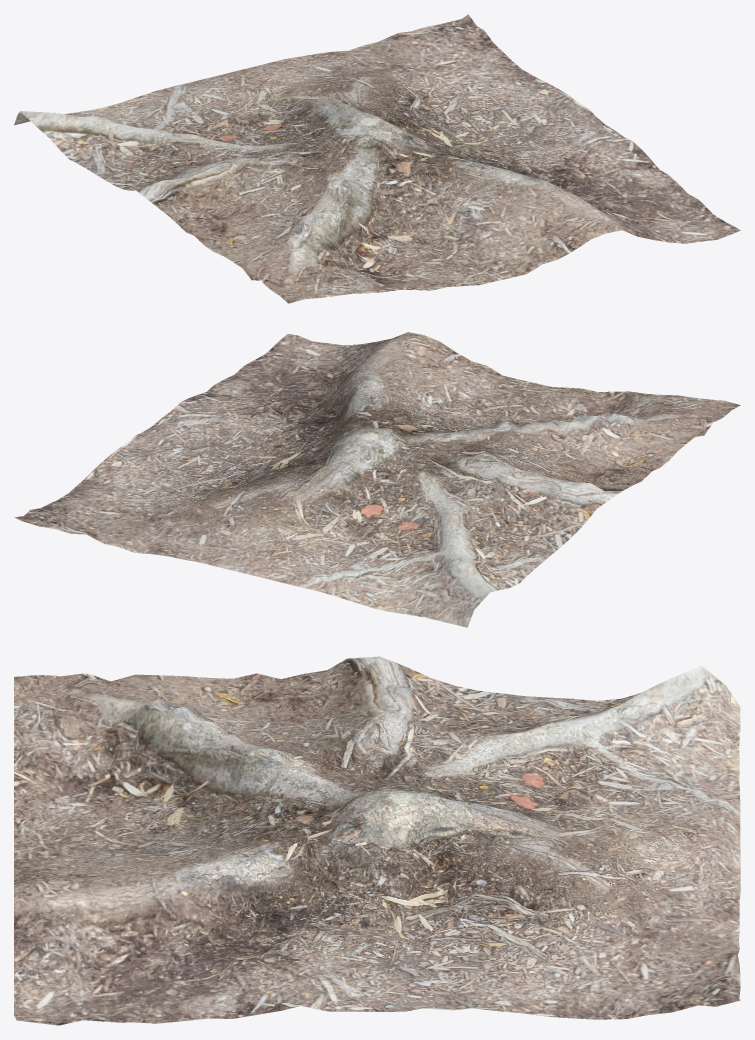
3 renders of one model, top to bottom at view 1: azimuth 30°, elevation 25°; view 2: azimuth 150°, elevation 25°; view 3: azimuth 270°, elevation 25°, orthographic. The views are drawn at different scales.
Parts seen in each view (by area): view 1: PomperNature_low; view 2: PomperNature_low; view 3: PomperNature_low.
Part boxes in pixels (x1=…): PomperNature_low: x1=14, y1=14, x2=740, y2=303; PomperNature_low: x1=14, y1=332, x2=740, y2=627; PomperNature_low: x1=14, y1=656, x2=740, y2=1025.
Size of the model in its own units: 1803 by 233 by 1847.
1 material, 1 textured.
